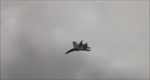maybay_muctieu: (64, 39, 90, 56)
